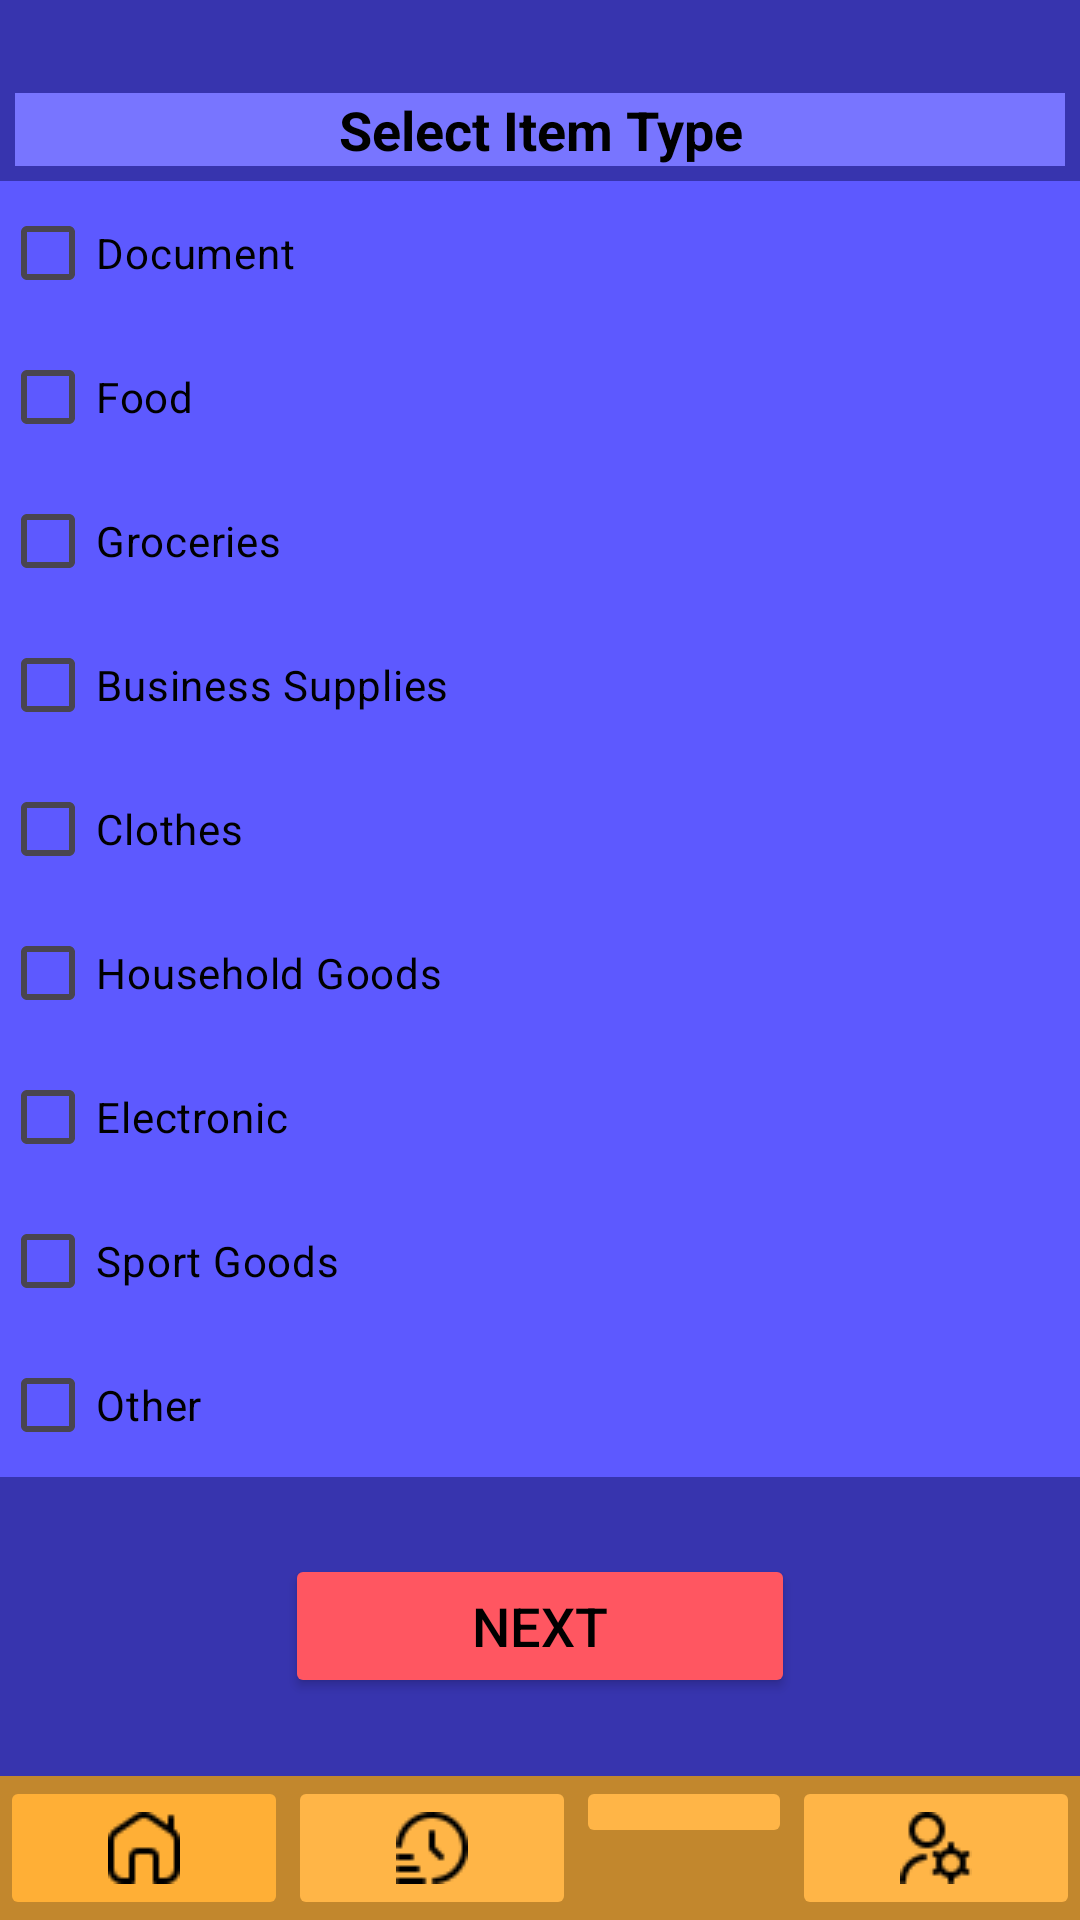

Locate icon controls on the screen. Image size 1080*1920, boxes as (x1, y1, x2, y2).
Activity: (300, 1794, 564, 1902)
Home: (12, 1794, 276, 1902)
Profile: (804, 1794, 1068, 1902)
